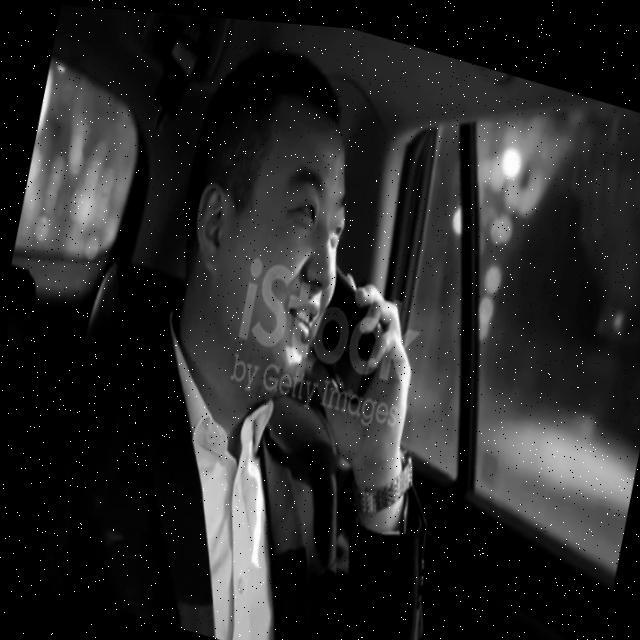PhoneCall: (301, 257, 390, 407)
